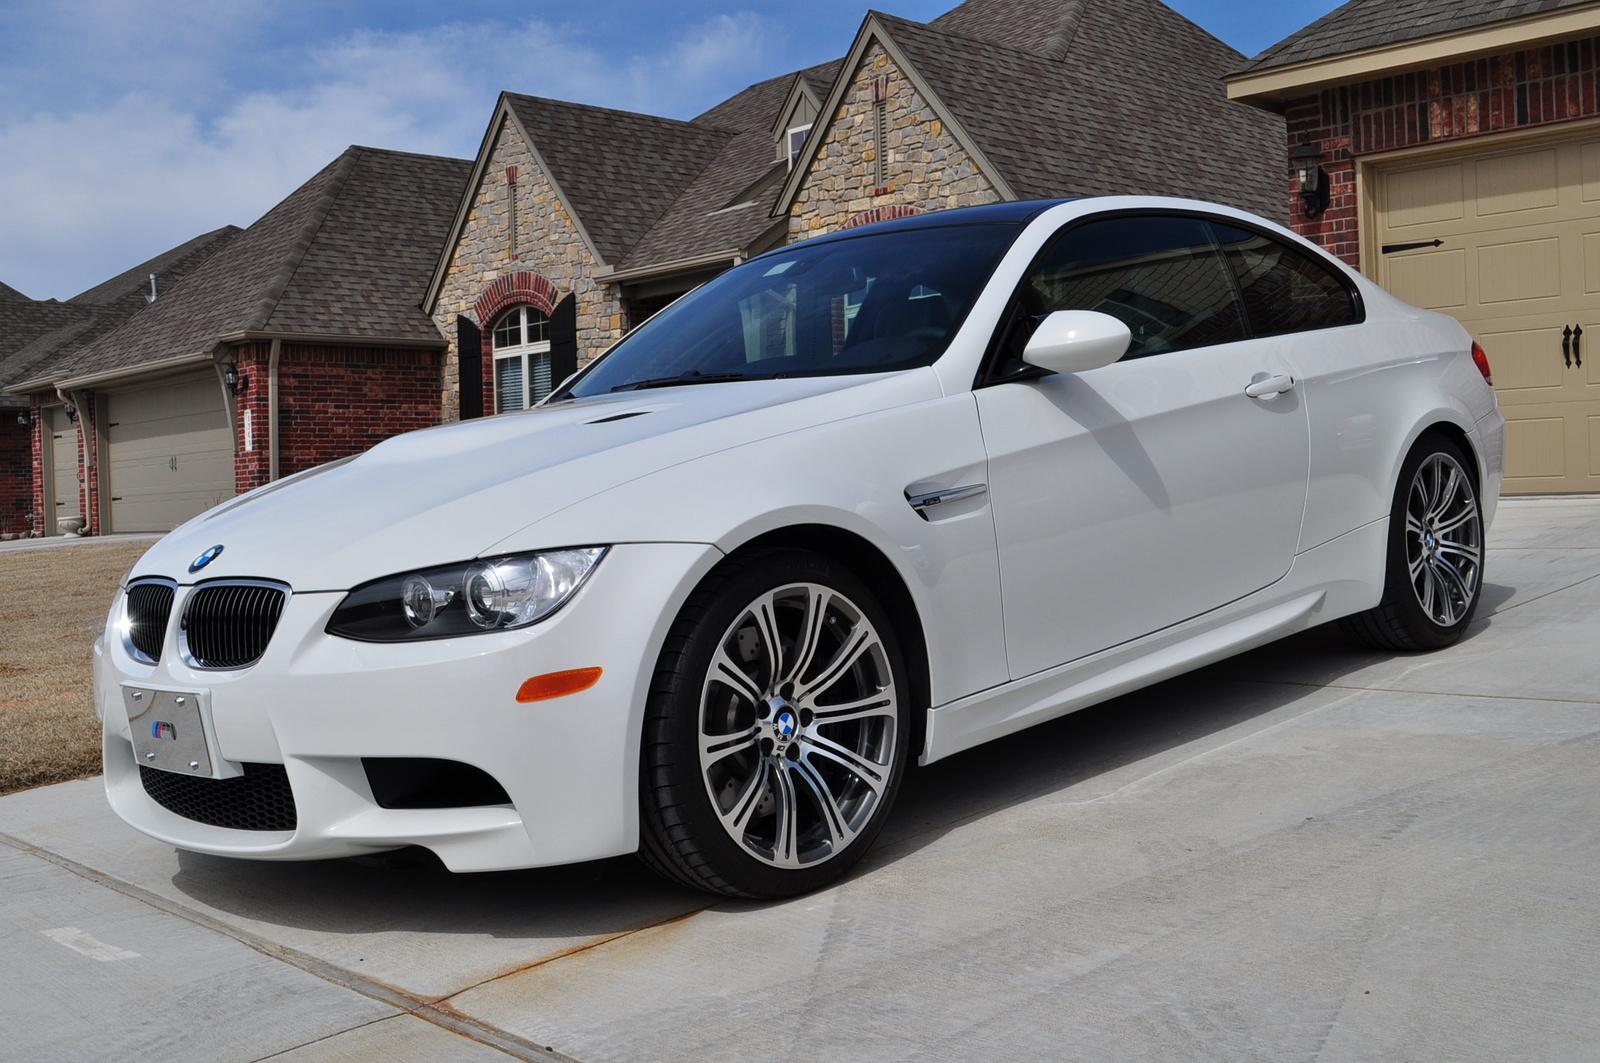Car: (89, 151, 1558, 921)
